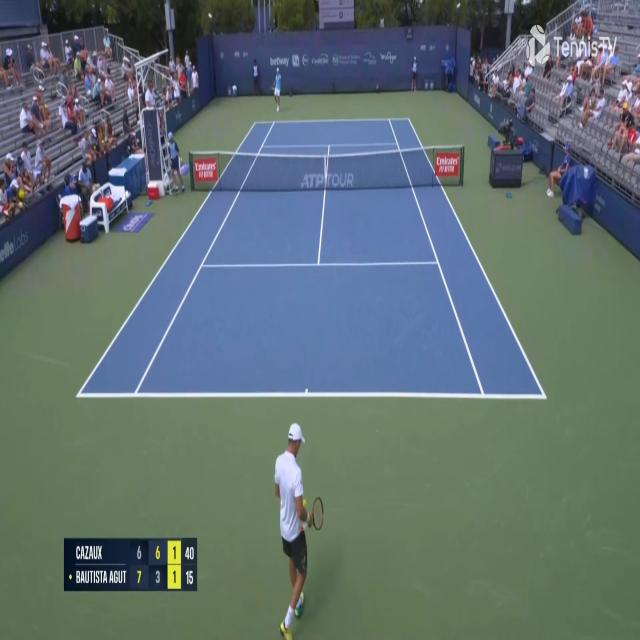tennis-player: (272, 416, 327, 636), (272, 64, 282, 113)
